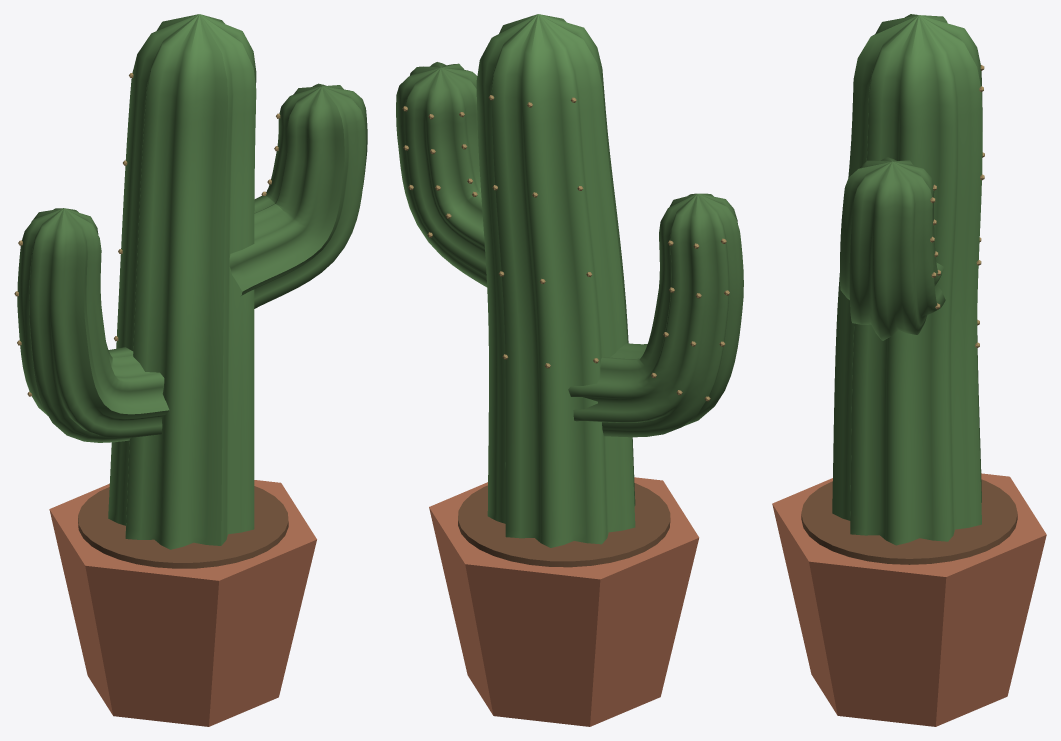
3 renders of one model, left to right at view 1: azimuth 30°, elevation 25°; view 2: azimuth 150°, elevation 25°; view 3: azimuth 270°, elevation 25°, orthographic. The views are drawn at different scales.
Parts seen in each view (by area): view 1: desktop-plant-foliage, desktop-plant-stems, desktop-plant-pot, desktop-plant-soil; view 2: desktop-plant-foliage, desktop-plant-stems, desktop-plant-pot, desktop-plant-soil, desktop-plant-accent; view 3: desktop-plant-foliage, desktop-plant-pot, desktop-plant-stems, desktop-plant-soil.
Boxes of the visible parts, x1=… form: desktop-plant-foliage: x1=108, y1=14, x2=256, y2=549; desktop-plant-stems: x1=17, y1=83, x2=367, y2=442; desktop-plant-pot: x1=49, y1=480, x2=316, y2=726; desktop-plant-soil: x1=78, y1=486, x2=288, y2=568; desktop-plant-foliage: x1=476, y1=14, x2=635, y2=547; desktop-plant-stems: x1=396, y1=62, x2=743, y2=437; desktop-plant-pot: x1=429, y1=477, x2=699, y2=726; desktop-plant-soil: x1=458, y1=483, x2=670, y2=567; desktop-plant-accent: x1=402, y1=95, x2=729, y2=401; desktop-plant-foliage: x1=832, y1=14, x2=982, y2=545; desktop-plant-pot: x1=772, y1=473, x2=1046, y2=726; desktop-plant-stems: x1=840, y1=157, x2=945, y2=340; desktop-plant-soil: x1=801, y1=479, x2=1017, y2=564.
Size of the model in its own units: 0.2079 by 0.3936 by 0.1439.
